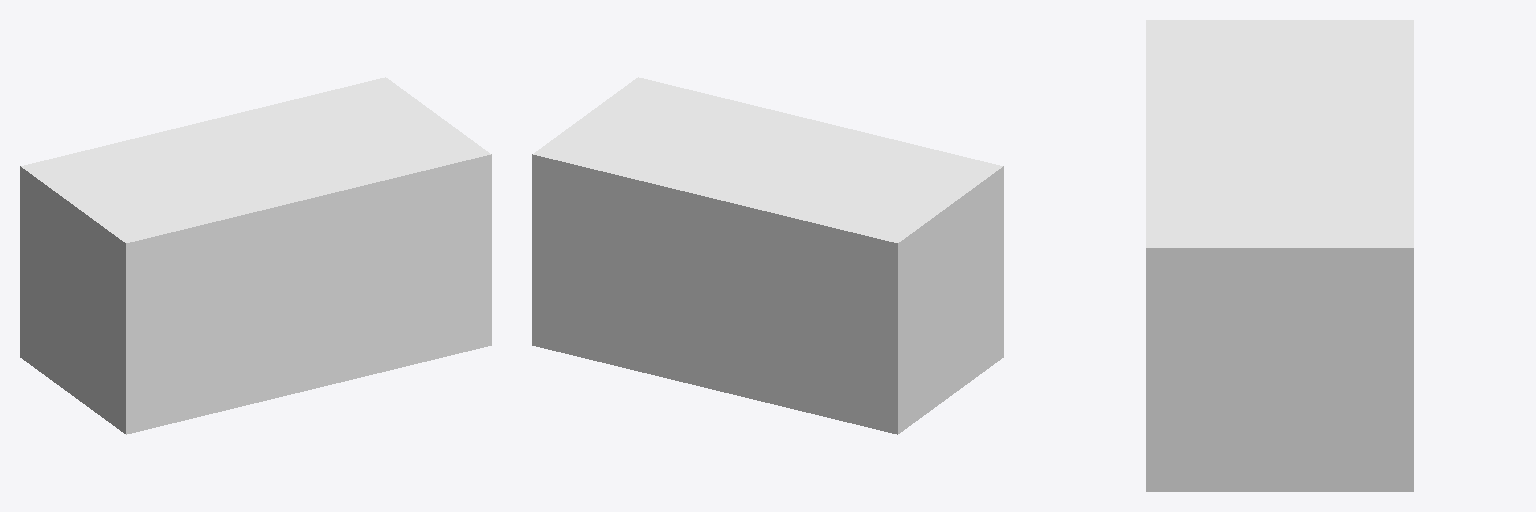
robot.urdf — wall:
<?xml version="1.0" ?>
<robot name="wall">
  <link name="baseLink">
     <contact>
      <lateral_friction value="1"/>
  </contact>
    <inertial>
      <origin rpy="0 0 0" xyz="0 0 0"/>
       <mass value="1.0"/>
       <inertia ixx="100" ixy="0" ixz="0" iyy="100" iyz="0" izz="100"/>
    </inertial>
    <visual>
      <origin rpy="0 0 0" xyz="0 0 0"/>
      <geometry>
				<mesh filename="wall.obj" scale="1 1 1"/>
      </geometry>
       <material name="white">
        <color rgba="1 1 1 1"/>
      </material>
    </visual>
    <collision group="0" mask="0">
      <origin rpy="0 0 0" xyz="0 0 0"/>
      <geometry>
	 	<box size="2 1 1"/>
      </geometry>
    </collision>
  </link>
</robot>

--- Facts derived from the render (not from the file) ---
3 views of the same robot in one strip: view 1: azimuth 30°, elevation 25°; view 2: azimuth 150°, elevation 25°; view 3: azimuth 270°, elevation 25° (orthographic).
Robot: wall — 1 links, 0 joints (none); root link baseLink; default pose: every joint at zero.
Visible links, largest first — view 1: baseLink; view 2: baseLink; view 3: baseLink.
Boxes of the visible links, bbox=[...] form: baseLink: bbox=[20, 77, 491, 434]; baseLink: bbox=[532, 77, 1003, 434]; baseLink: bbox=[1146, 20, 1413, 491].
Bounding box of the posed robot: 2 × 1 × 1 m (x, y, z).
1 mesh visuals loaded from 1 distinct referenced files (1 OBJ).